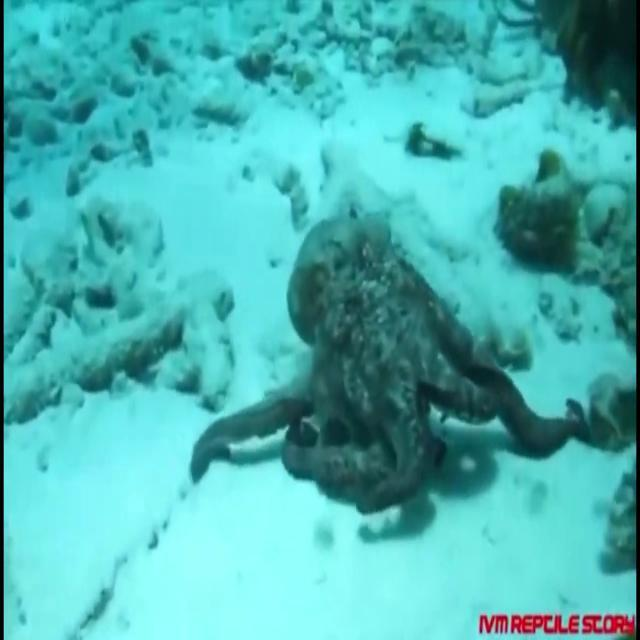octopus: (186, 208, 594, 511)
